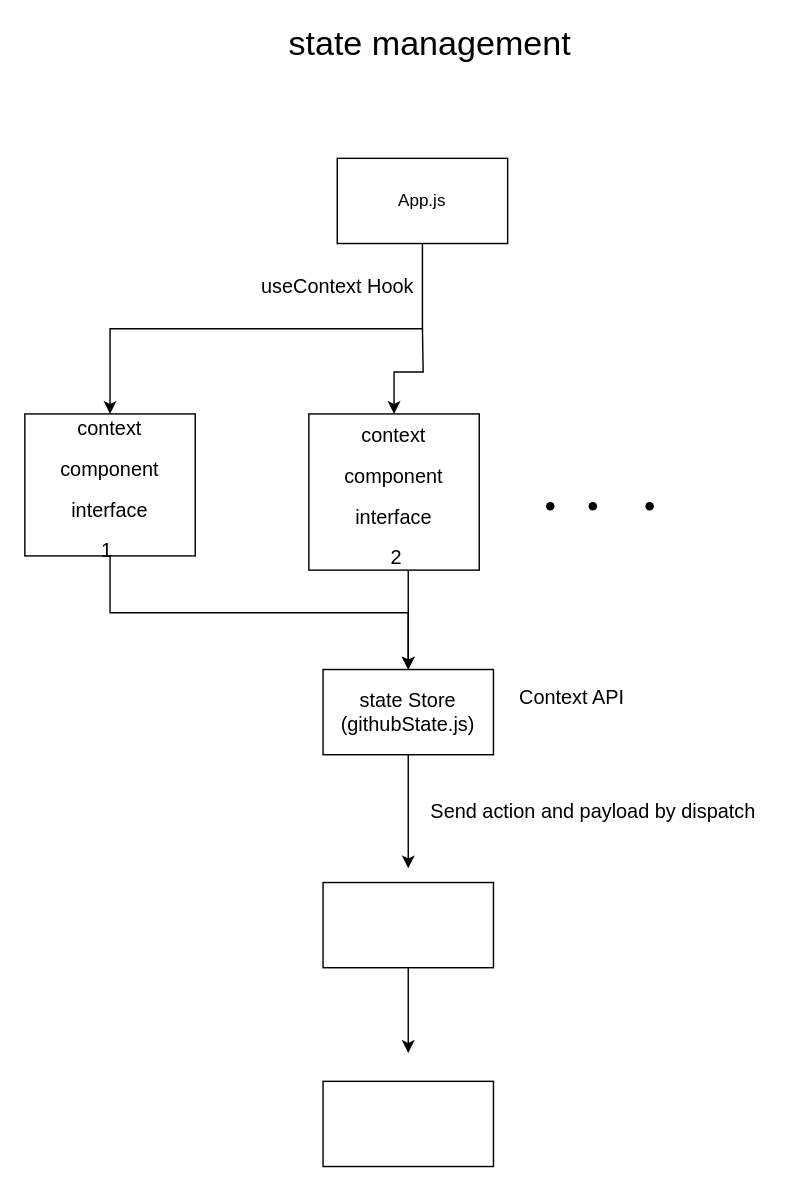
This 788x1191 diagram has some shape labels left out. The box of each missing label's shape, as (x1, y1, x2, y2) in pixels:
Reducer: (322, 881, 493, 968)
set State & return: (322, 1080, 493, 1167)
